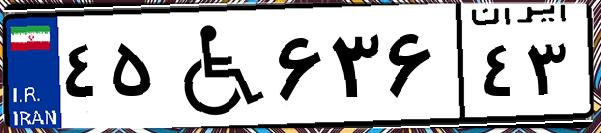3: (330, 28, 385, 110), (525, 38, 570, 115)
4: (57, 26, 110, 100), (475, 38, 525, 113)
5: (110, 28, 158, 98)
6: (270, 28, 330, 110), (385, 28, 445, 110)
ژ (معلولین و جانبازان): (158, 12, 270, 120)
